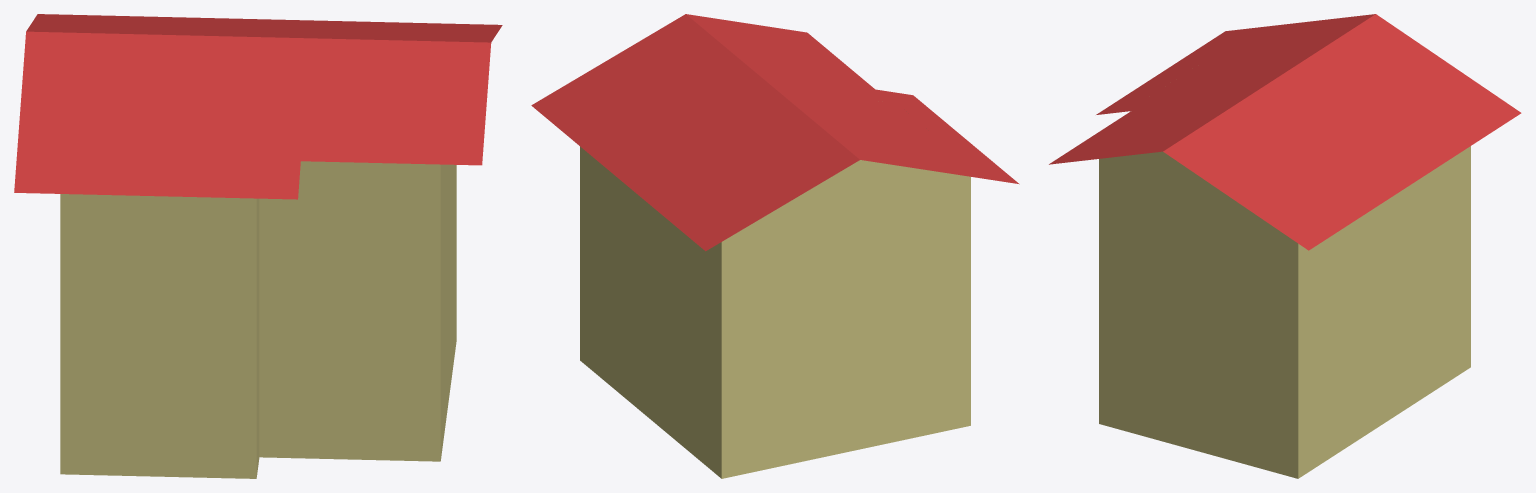
The picture shows the model from 3 angles, left to right: view 1: azimuth 30°, elevation 25°; view 2: azimuth 150°, elevation 25°; view 3: azimuth 270°, elevation 25°; orthographic projection. The views are drawn at different scales.
Bounding box in the file's own units: 14.17 × 12.92 × 9.29.
